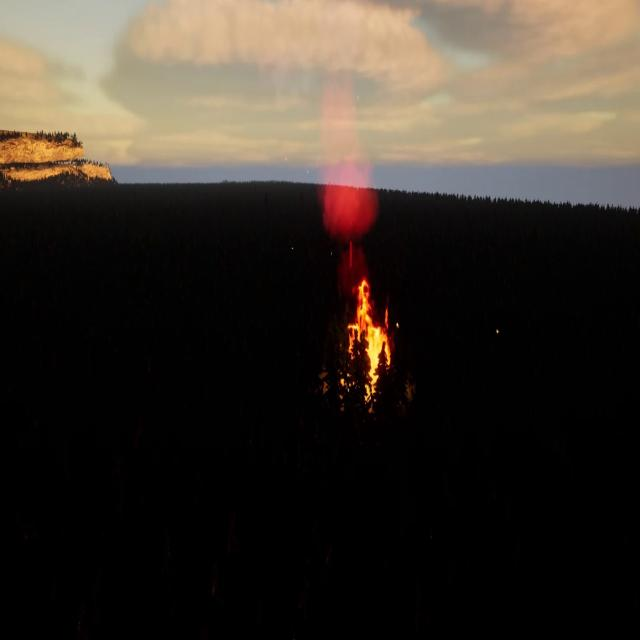fire: (342, 279, 399, 399)
smoke: (320, 56, 378, 239)
